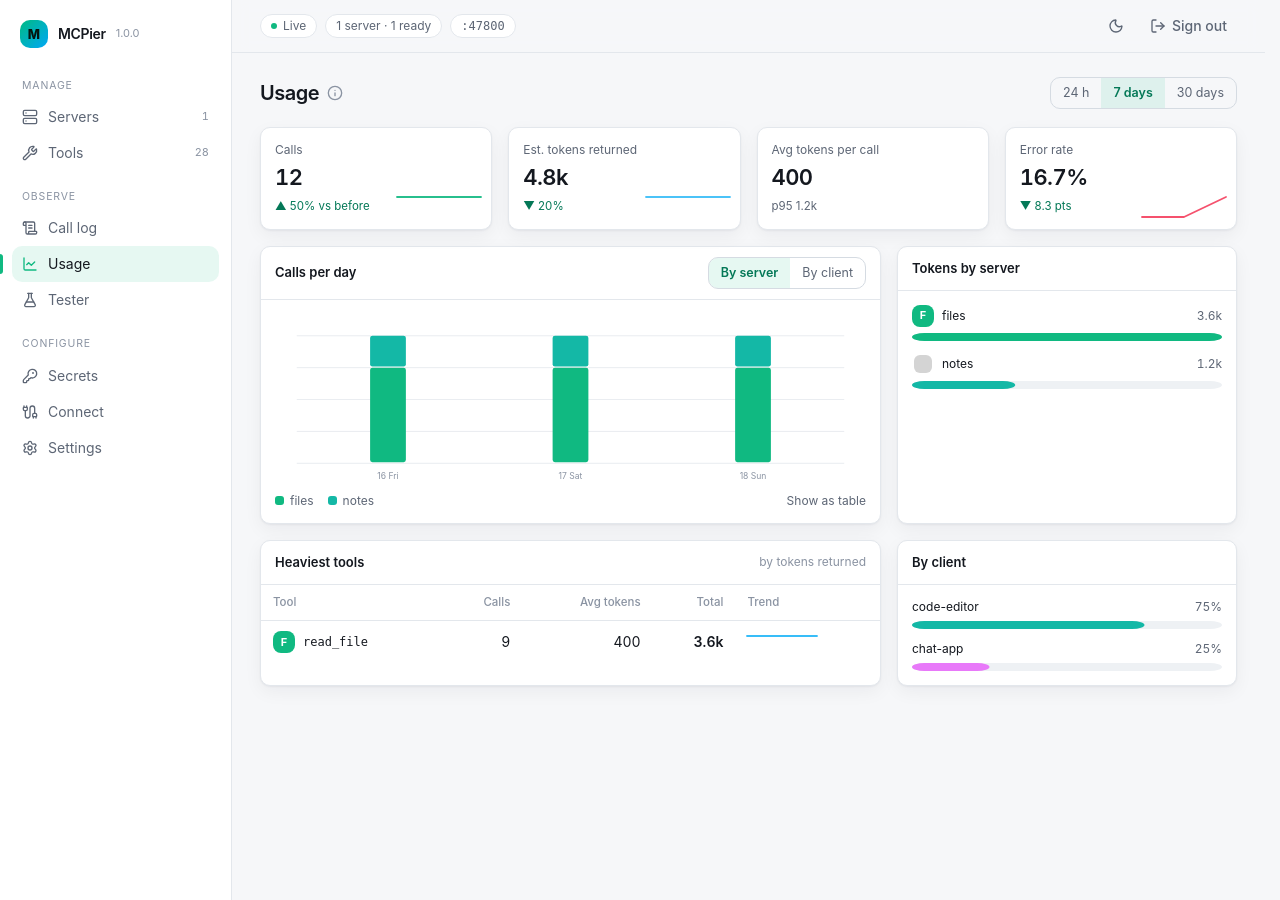
Test: Usage page › the info tooltip explains the estimate
Hover over the button named "About Usage" at point(335, 93), box [327, 85, 343, 101]
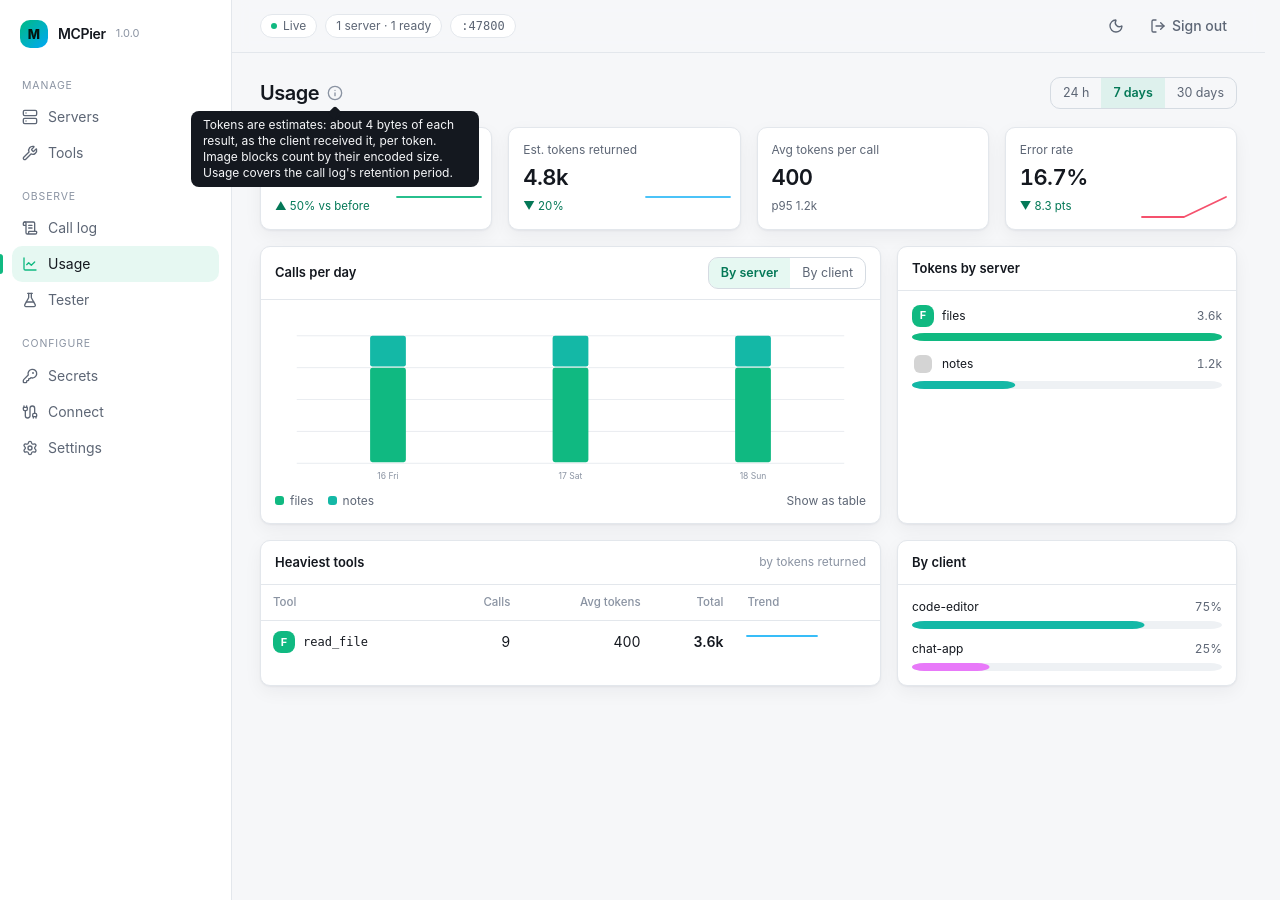
Check: the tooltip "Image blocks count by their encoded size" is shown, box [203, 117, 454, 180]
